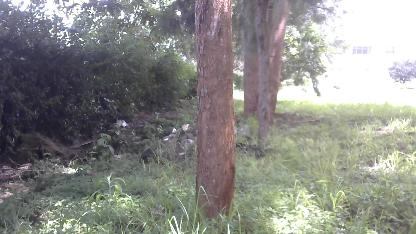tree: (190, 1, 240, 223), (251, 0, 298, 160)
